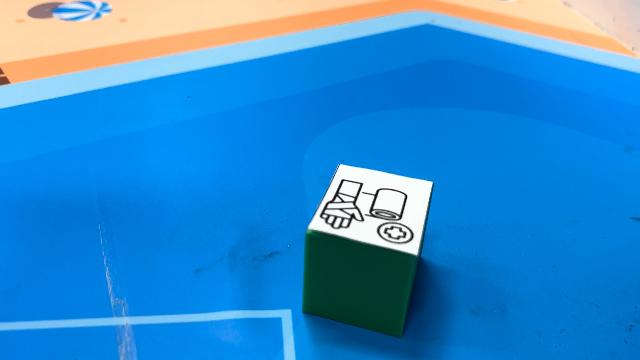bandage: (302, 162, 434, 338)
